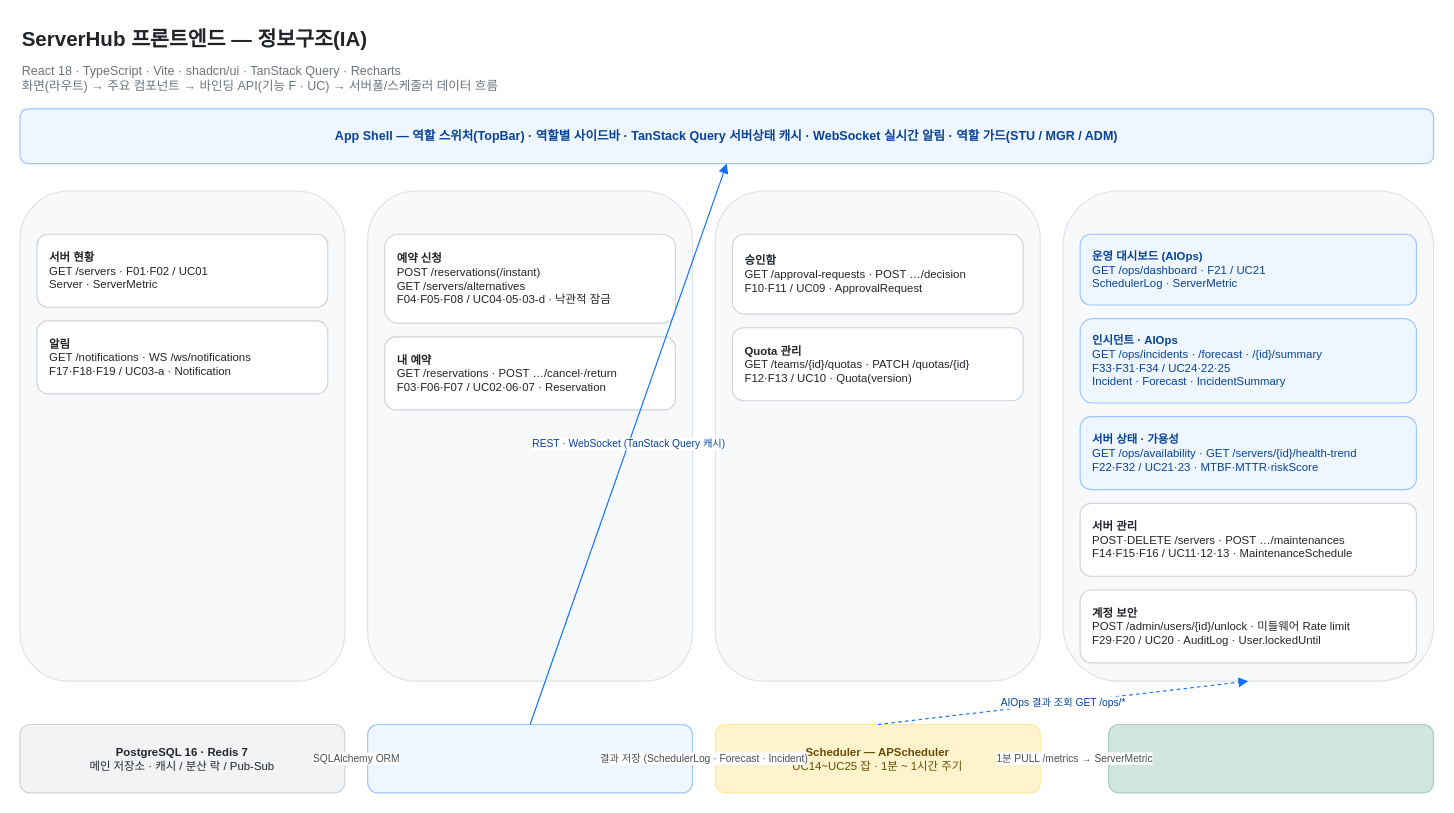
This 1454x813 diagram has some shape labels left out. The shapes that lost their labels are listed below. From the top down, each one's box as (x1, y1, x2, y2) in pixels, then its label:
(19, 190, 345, 681): 공통 (전 역할)
(367, 190, 693, 681): STU · 학생 / 연구원
(714, 190, 1040, 681): MGR · 팀 관리자 (+ STU 기능)
(1062, 190, 1434, 681): ADM · 서버 관리자
(367, 723, 693, 793): Backend — FastAPI REST + WebSocket API
(1108, 723, 1434, 793): Server Pool (외부) /health · /metrics (cpu·mem·gpu·net)
